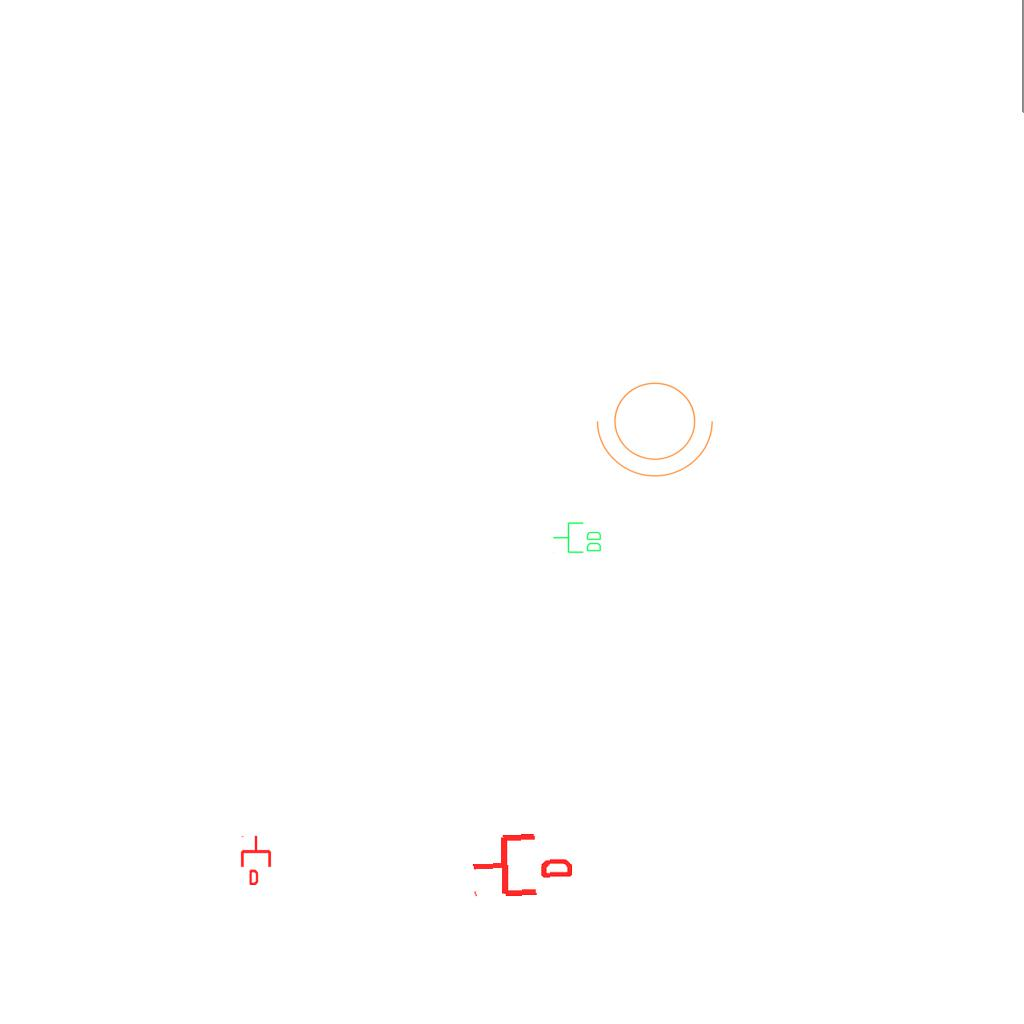Datenanschluss_einfach: (470, 828, 573, 902), (239, 835, 273, 885)
Datenanschluss_zweifach: (552, 521, 603, 555)
Scheinwerfer_fuer_Alarmbeleuchtung: (592, 370, 724, 482)
